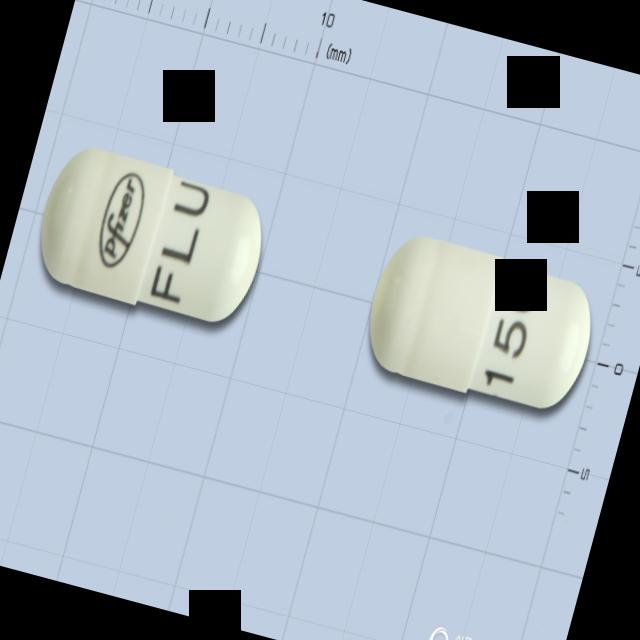Diflucan Cap: (26, 138, 278, 334), (355, 226, 606, 422)
